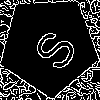S: (24, 21, 80, 74)
